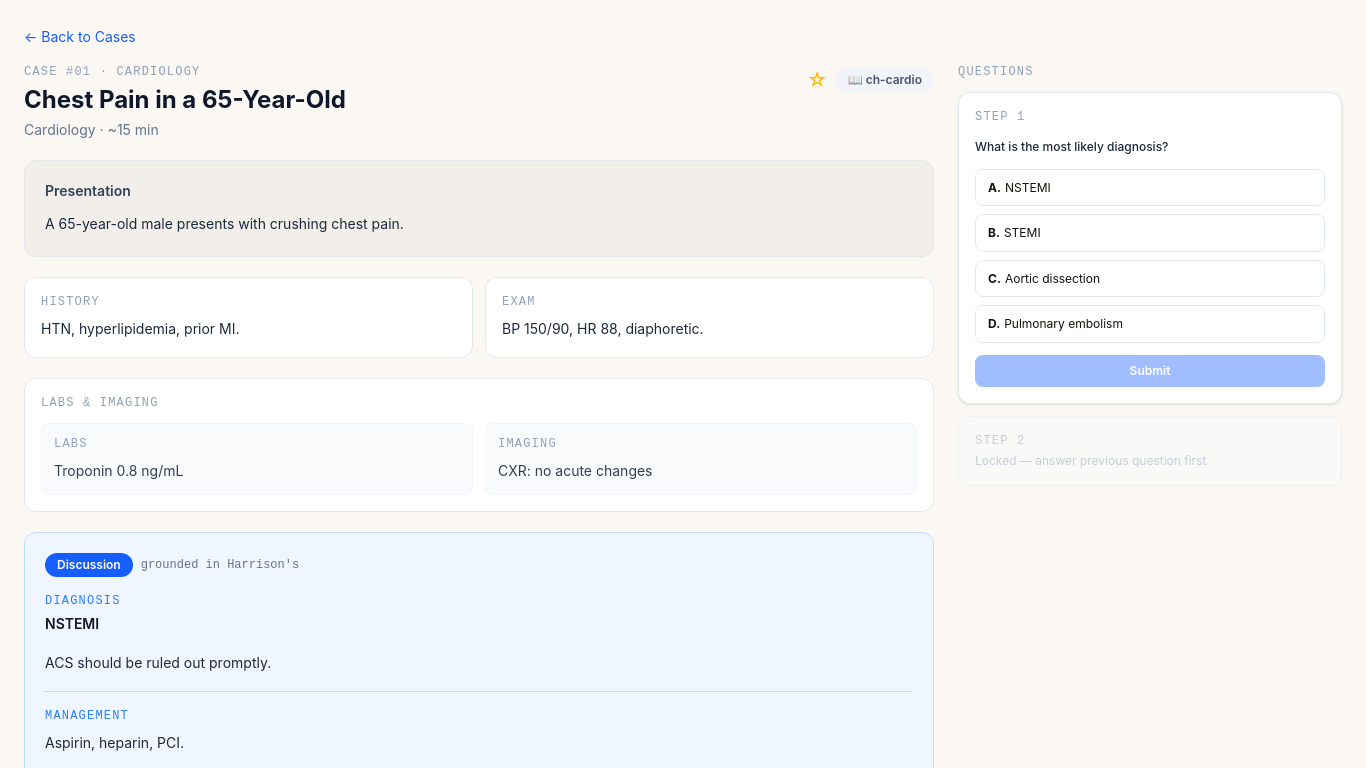
Test: CaseDetailPage › shows Incorrect feedback when wrong answer submitted
The width and height of the screenshot is (1366, 768).
Click the button "C.Aortic dissection". click: (1052, 278)
box: [975,260,1325,297]
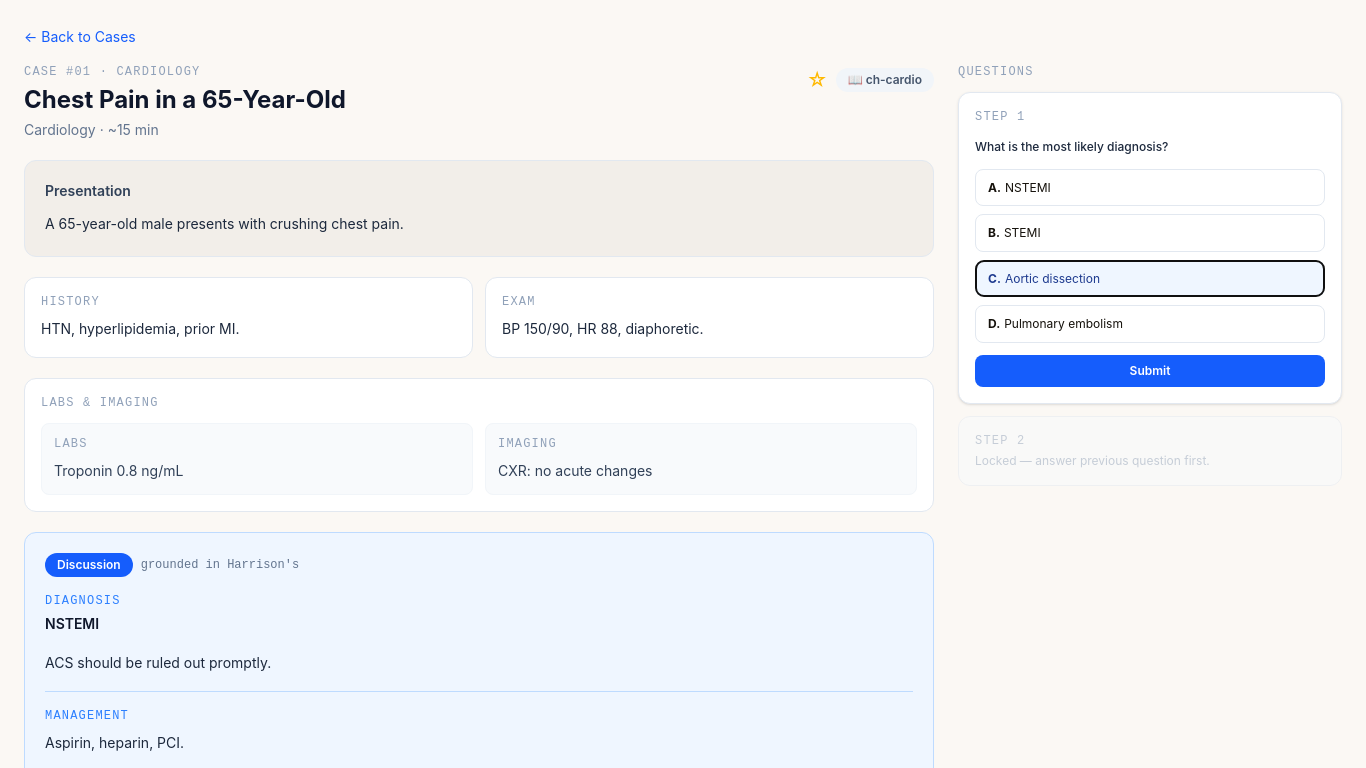
Click the button "Submit". click: (1150, 370)
box: [975,354,1325,386]
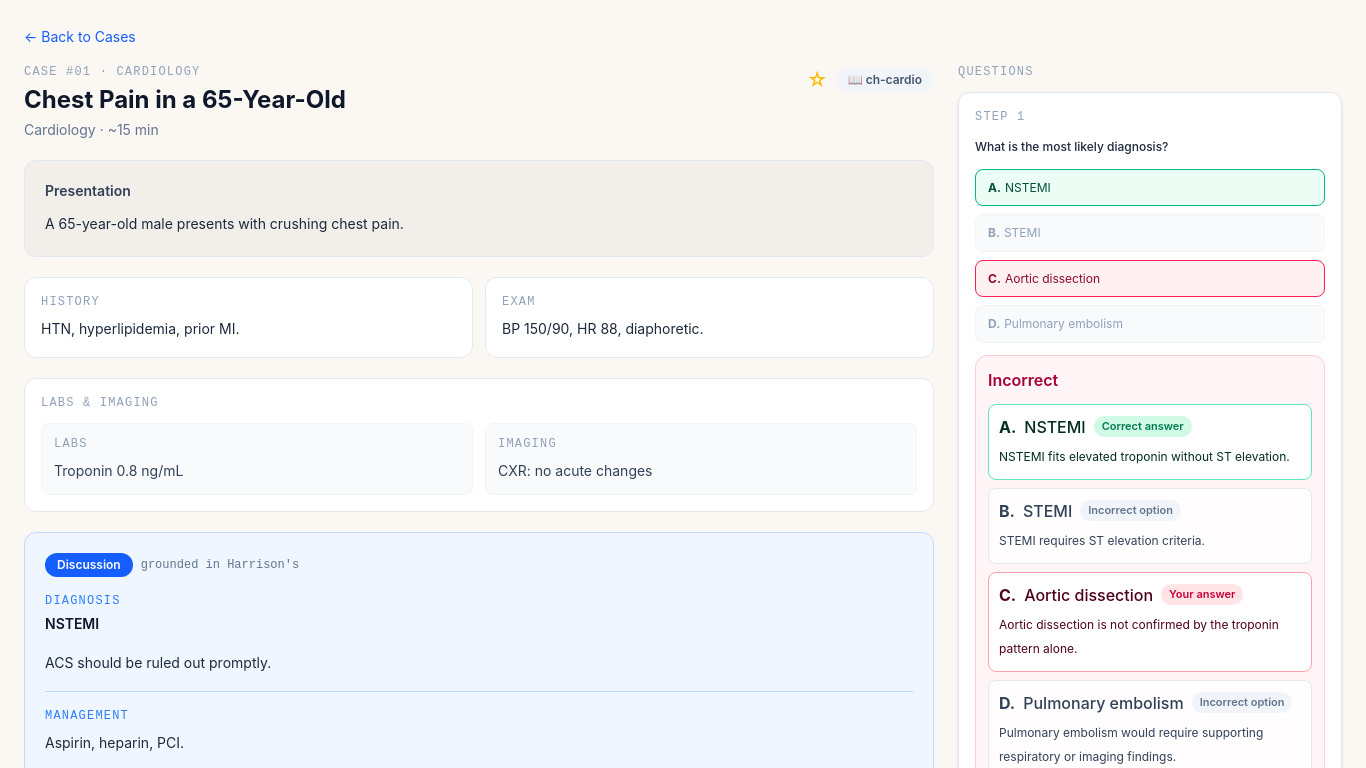
Expected: the text "Incorrect" is shown, [988,370,1058,390]
